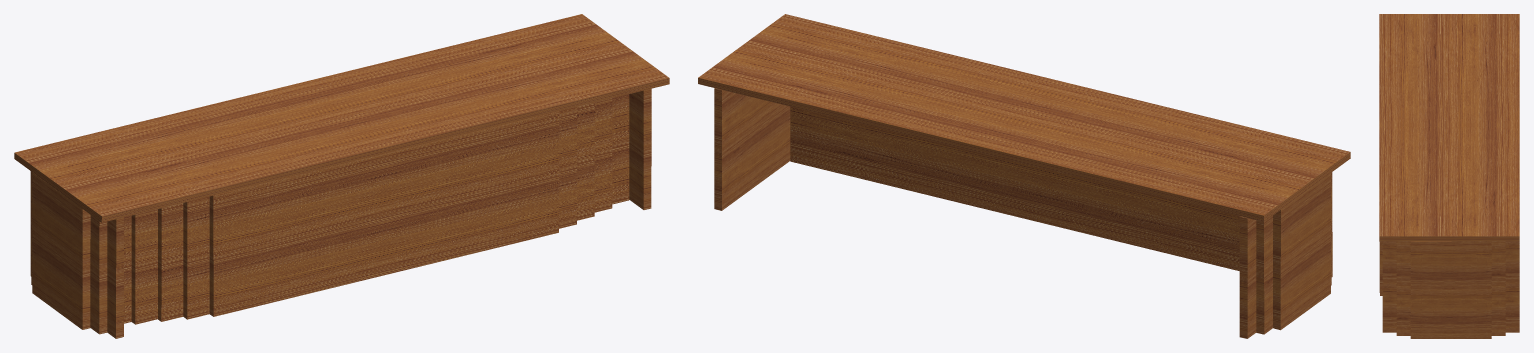
File: Table.FBX
3 renders of one model, left to right at view 1: azimuth 30°, elevation 25°; view 2: azimuth 150°, elevation 25°; view 3: azimuth 270°, elevation 25°, orthographic. The views are drawn at different scales.
Parts seen in each view (by area): view 1: Table; view 2: Table; view 3: Table.
Boxes of the visible parts, x1,y1,x2,y2 form: Table: (14, 14, 669, 338); Table: (698, 14, 1350, 338); Table: (1379, 14, 1519, 338).
Size of the model in its own units: 337 by 72.66 by 89.97.
1 material, 1 textured.
